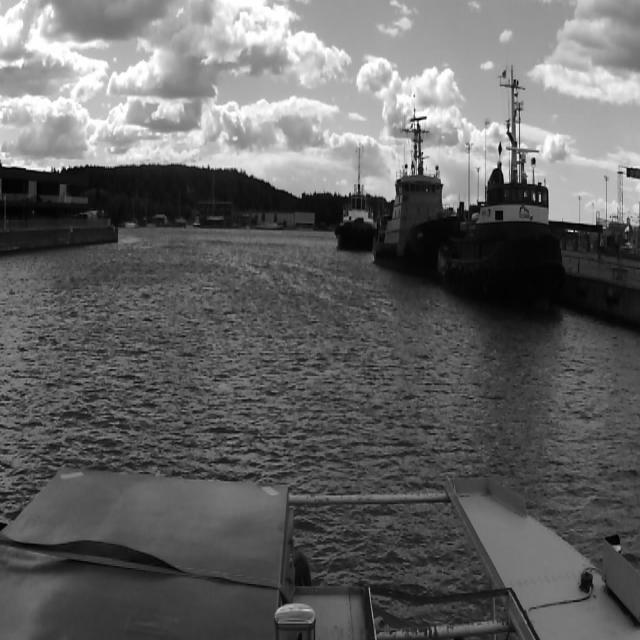ship: (450, 140, 568, 314), (371, 94, 457, 278), (334, 180, 376, 250)
